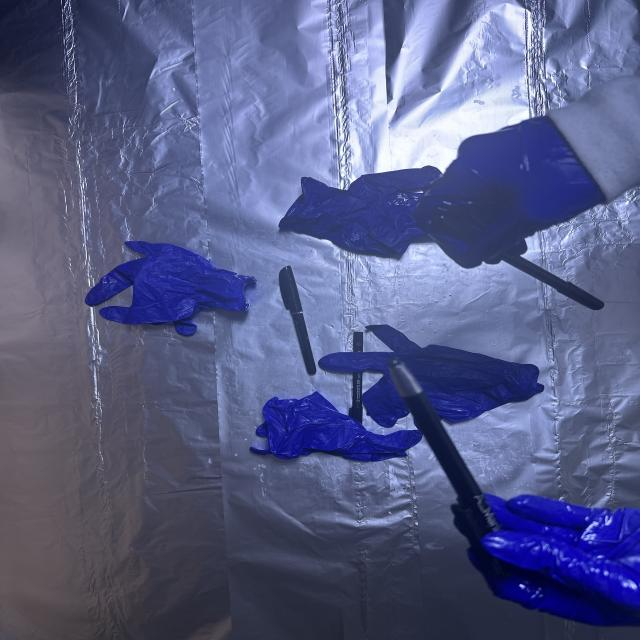gloves_contaminated: (413, 117, 606, 268), (483, 496, 640, 625)
